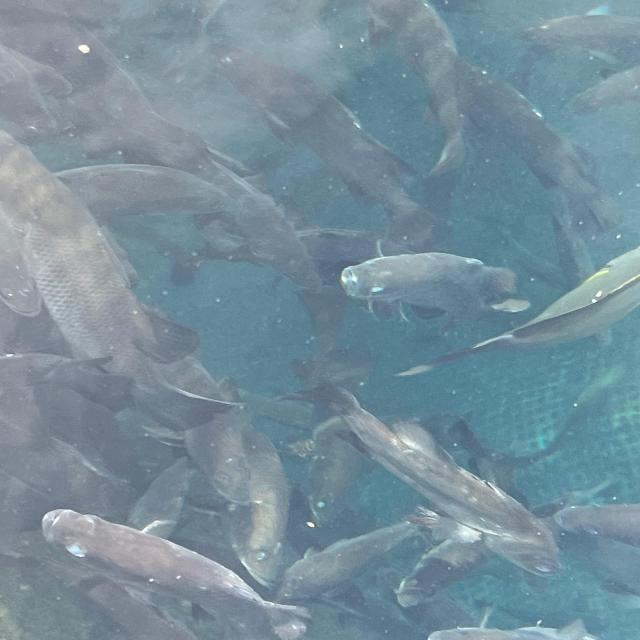ikan: (290, 405, 582, 576), (34, 494, 273, 620), (302, 246, 536, 313)
